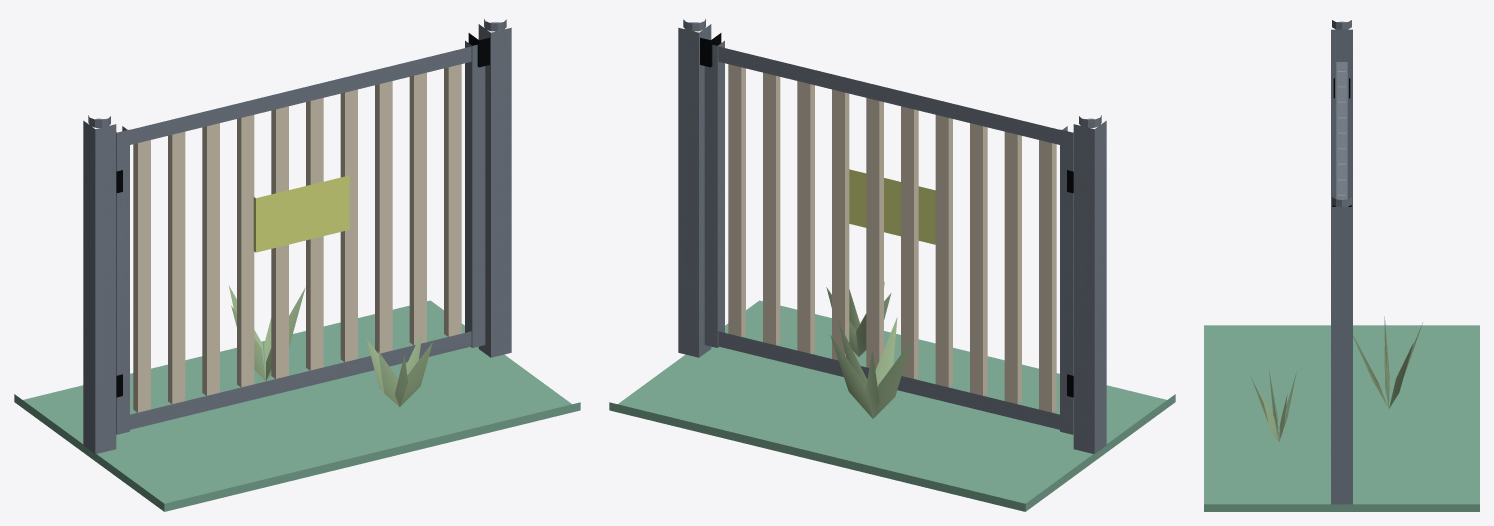
Rendered from v2_gate.glb.
The picture shows the model from 3 angles, left to right: view 1: azimuth 30°, elevation 25°; view 2: azimuth 150°, elevation 25°; view 3: azimuth 270°, elevation 25°; orthographic projection. The views are drawn at different scales.
Visible parts, largest first — view 1: Gate_Infill, Safety_Pad, Posts, Gate_Rails, Gate_Frame, Gate_Sign, Grass_Tufts; view 2: Gate_Infill, Safety_Pad, Posts, Gate_Rails, Gate_Frame, Grass_Tufts, Gate_Sign; view 3: Safety_Pad, Posts, Grass_Tufts, Gate_Rails, Gate_Frame, Post_Caps.
Boxes of the visible parts, x1,y1,x2,y2 form: Gate_Infill: (133, 64, 461, 412); Safety_Pad: (14, 300, 580, 511); Posts: (83, 24, 511, 453); Gate_Rails: (122, 46, 471, 429); Gate_Frame: (116, 40, 485, 434); Gate_Sign: (253, 175, 349, 252); Grass_Tufts: (228, 285, 432, 406); Gate_Infill: (728, 64, 1056, 412); Safety_Pad: (609, 300, 1175, 511); Posts: (678, 24, 1106, 453); Gate_Rails: (718, 46, 1067, 429); Gate_Frame: (704, 40, 1073, 434); Grass_Tufts: (826, 281, 912, 418); Gate_Sign: (849, 169, 935, 244); Safety_Pad: (1204, 325, 1479, 511); Posts: (1331, 29, 1352, 505); Grass_Tufts: (1251, 316, 1422, 441); Gate_Rails: (1336, 62, 1347, 199); Gate_Frame: (1335, 47, 1348, 198); Post_Caps: (1332, 20, 1351, 206).
Size of what is drawn, in the model's own units: 1.6 by 1.25 by 1.
6 materials, 2 textured.
